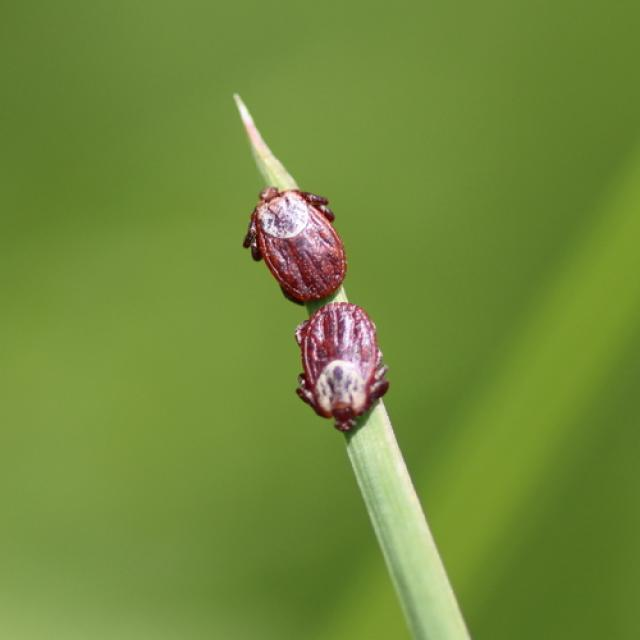Dermacentor Reticulatus-F: (294, 301, 389, 436), (243, 187, 347, 303)
